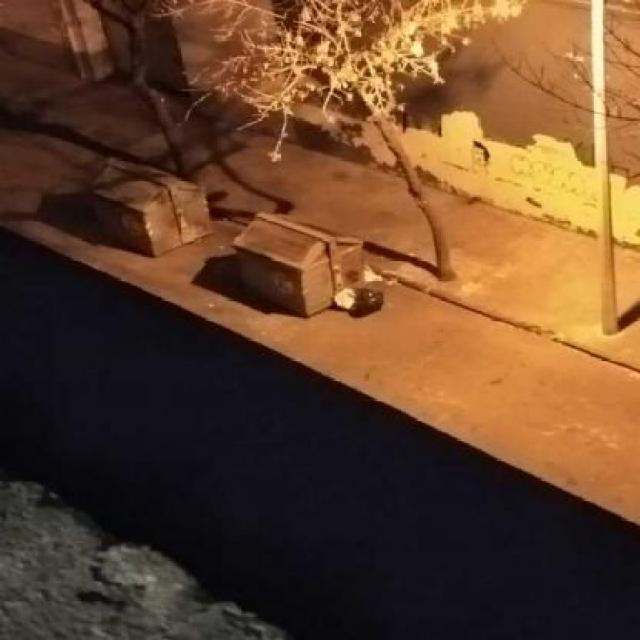garbage: (328, 283, 399, 328)
